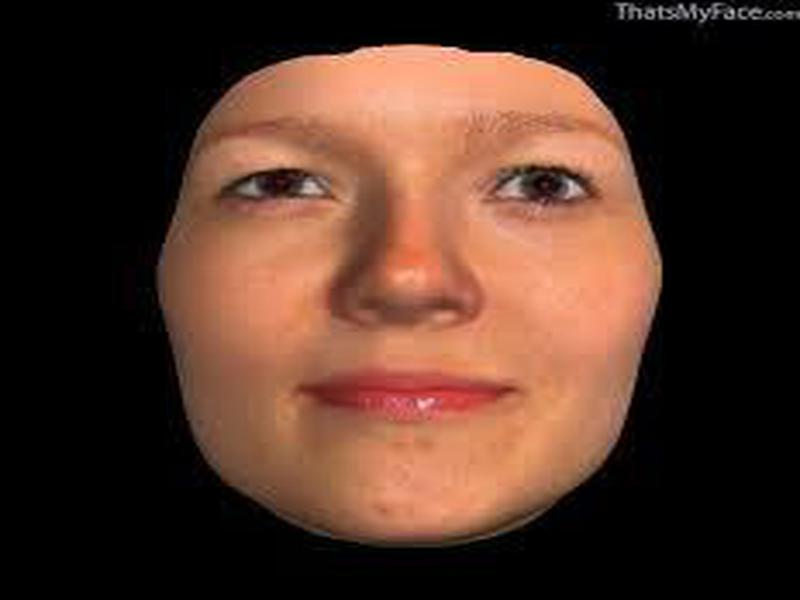without_mask: (157, 57, 663, 542)
